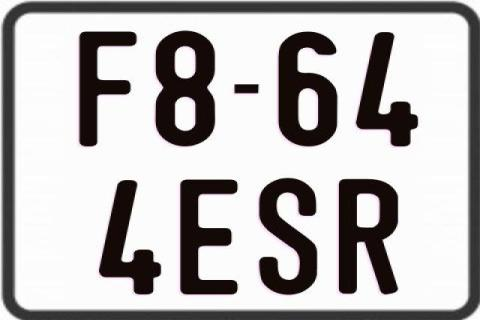0: (96, 180, 164, 297), (154, 30, 219, 148), (353, 32, 419, 147), (278, 32, 340, 147)
E: (180, 177, 240, 295)
F: (77, 29, 139, 145)
R: (336, 178, 399, 298)
S: (256, 177, 316, 295)
